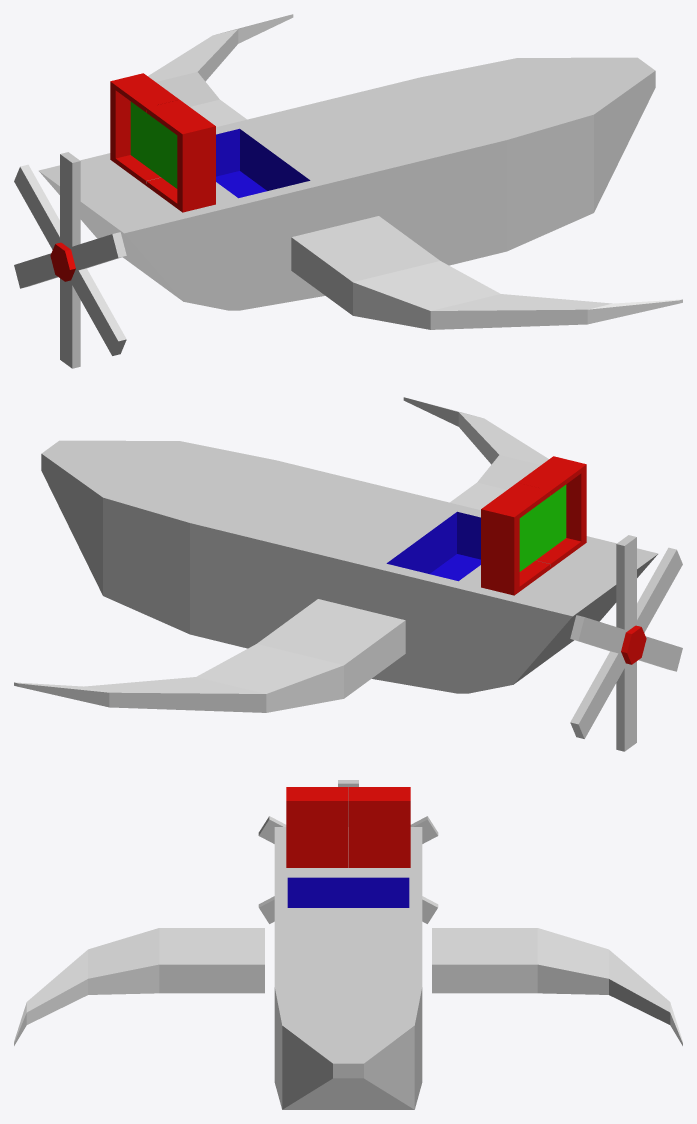
3 renders of one model, top to bottom at view 1: azimuth 30°, elevation 25°; view 2: azimuth 150°, elevation 25°; view 3: azimuth 270°, elevation 25°, orthographic. The views are drawn at different scales.
Visible parts, largest first — view 1: Cube, Cube.001, Cylinder; view 2: Cube, Cube.001, Cylinder; view 3: Cube, Cube.001, Cylinder.
Boxes of the visible parts, bbox=[...] form: Cube: bbox=[38, 57, 655, 310]; Cube.001: bbox=[148, 14, 682, 329]; Cylinder: bbox=[14, 152, 126, 368]; Cube: bbox=[41, 440, 658, 693]; Cube.001: bbox=[14, 397, 548, 712]; Cylinder: bbox=[570, 535, 682, 751]; Cube: bbox=[274, 787, 422, 1109]; Cube.001: bbox=[14, 928, 682, 1045]; Cylinder: bbox=[258, 780, 438, 923].
Bounding box in the file's own units: 1101 × 425 × 1267.
